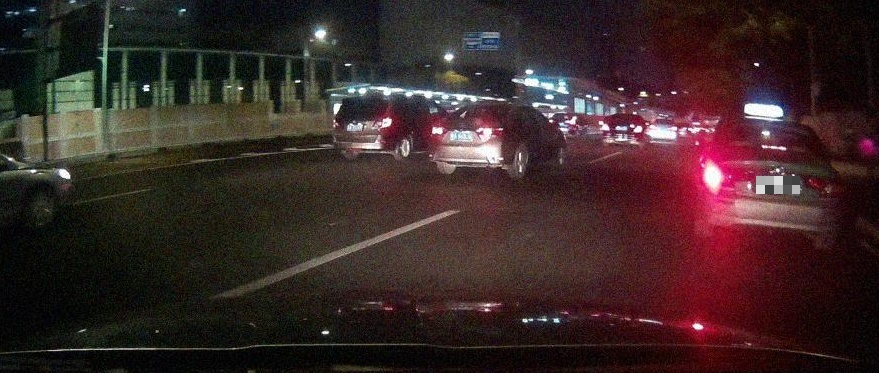L_light: (702, 165, 734, 188), (431, 125, 447, 136), (332, 119, 342, 130), (603, 124, 610, 131)
R_light: (805, 176, 845, 197), (477, 125, 506, 137), (372, 117, 392, 129), (633, 126, 642, 132)
T_light: (761, 145, 786, 150), (358, 100, 367, 103), (476, 107, 485, 110), (622, 115, 628, 118)
day-no: (431, 100, 510, 179)
night-left: (700, 117, 846, 254)
night-no: (331, 93, 395, 161), (602, 113, 644, 148)
plate_1: (756, 176, 800, 194)
